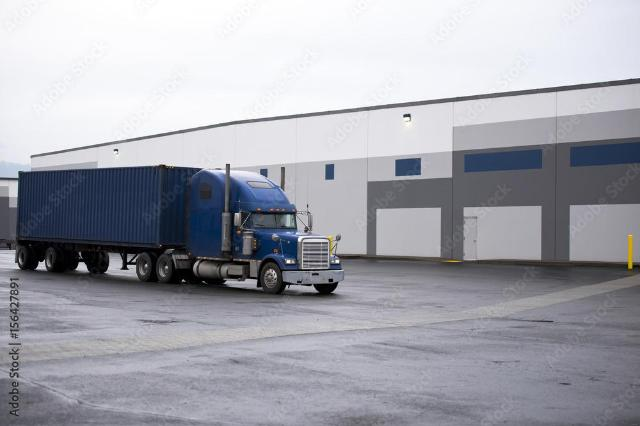truck: (10, 159, 349, 302)
